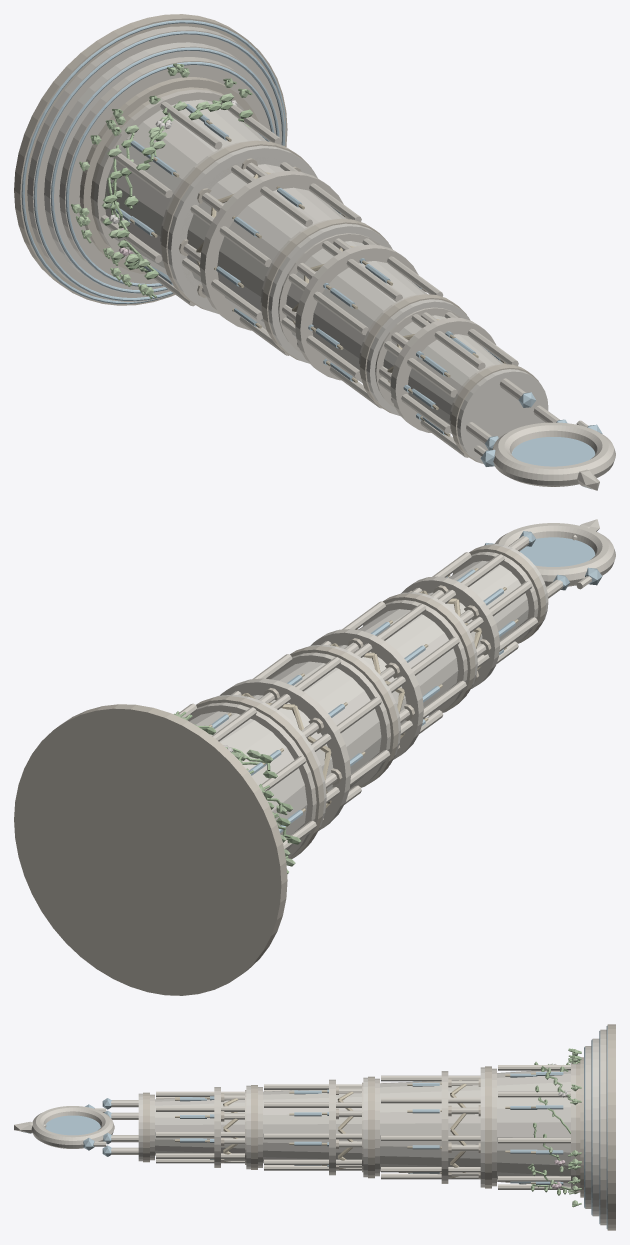
File: menara_shelter.glb
The picture shows the model from 3 angles, top to bottom: view 1: azimuth 30°, elevation 25°; view 2: azimuth 150°, elevation 25°; view 3: azimuth 270°, elevation 25°; orthographic projection. The views are drawn at different scales.
Visible parts, largest first — view 1: part_9, part_15, part_1, part_3, part_2, part_21, part_0, part_405, part_32, part_14, part_297, part_27 (+30 smaller); view 2: part_0, part_15, part_9, part_21, part_297, part_405, part_338, part_27, part_379, part_12, part_13, part_18 (+10 smaller); view 3: part_9, part_15, part_21, part_27, part_405, part_0, part_2, part_1, part_3, part_297, part_408, part_13 (+39 smaller).
Part boxes in pixels (<box>): part_9: <box>104,99,266,275</box>; part_15: <box>187,164,345,327</box>; part_1: <box>27,26,285,301</box>; part_3: <box>59,57,275,287</box>; part_2: <box>44,42,280,294</box>; part_21: <box>286,241,427,382</box>; part_0: <box>14,14,287,305</box>; part_405: <box>492,422,615,486</box>; part_32: <box>457,369,548,463</box>; part_14: <box>167,145,317,313</box>; part_297: <box>200,171,348,330</box>; part_27: <box>383,315,503,433</box>; part_0: <box>14,704,287,995</box>; part_15: <box>252,661,381,791</box>; part_9: <box>189,711,307,850</box>; part_21: <box>339,609,458,724</box>; part_297: <box>220,678,350,830</box>; part_405: <box>495,523,615,586</box>; part_338: <box>310,629,423,759</box>; part_27: <box>427,560,528,645</box>; part_379: <box>401,576,500,688</box>; part_12: <box>188,702,316,858</box>; part_13: <box>196,696,324,858</box>; part_18: <box>268,652,390,789</box>; part_9: <box>497,1070,570,1186</box>; part_15: <box>380,1081,480,1174</box>; part_21: <box>263,1090,361,1165</box>; part_27: <box>155,1097,244,1155</box>; part_405: <box>31,1106,114,1148</box>; part_0: <box>607,1024,615,1230</box>; part_2: <box>592,1038,599,1216</box>; part_1: <box>600,1029,606,1225</box>; part_3: <box>585,1046,591,1208</box>; part_297: <box>441,1071,448,1183</box>; part_408: <box>45,1115,100,1135</box>; part_13: <box>485,1066,491,1188</box>.
Size of the model in its own units: 4.5 by 4.5 by 13.11.
